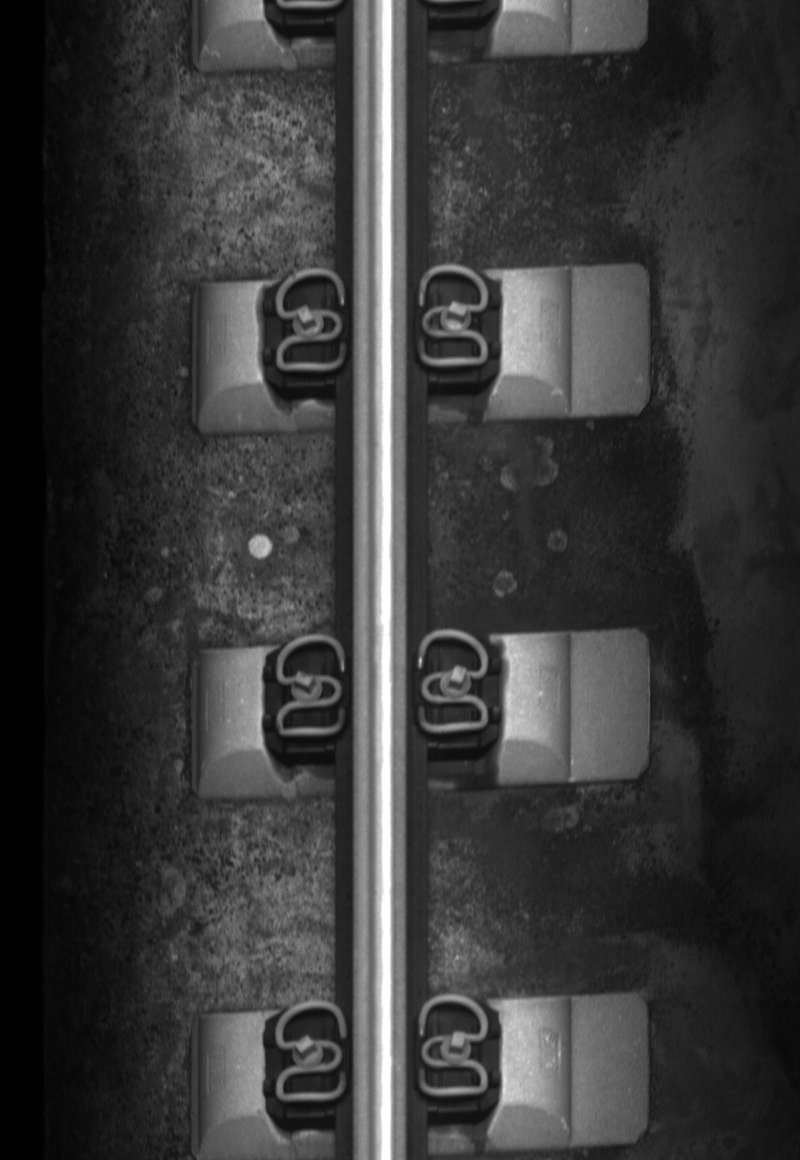l_faster: (268, 262, 351, 378), (270, 994, 352, 1109), (269, 629, 351, 744)
r_faster: (409, 622, 495, 743), (410, 990, 496, 1110), (413, 261, 491, 373)
